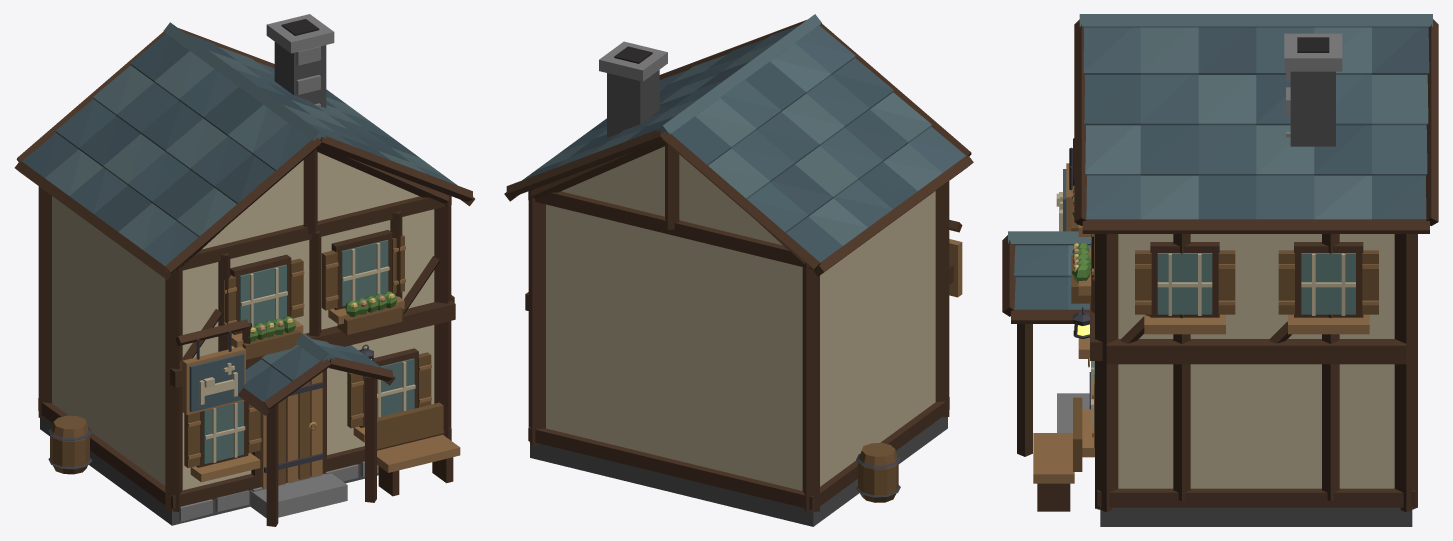
Rendered from town_inn_a.glb.
The picture shows the model from 3 angles, left to right: view 1: azimuth 30°, elevation 25°; view 2: azimuth 150°, elevation 25°; view 3: azimuth 270°, elevation 25°; orthographic projection. The views are drawn at different scales.
Visible parts, largest first — view 1: town_inn_a; view 2: town_inn_a; view 3: town_inn_a.
Boxes of the visible parts, <box> form: town_inn_a: <box>14,14,474,526</box>; town_inn_a: <box>504,14,973,526</box>; town_inn_a: <box>1002,14,1438,526</box>.
Size of the model in its own units: 4.38 by 4.79 by 4.22.
